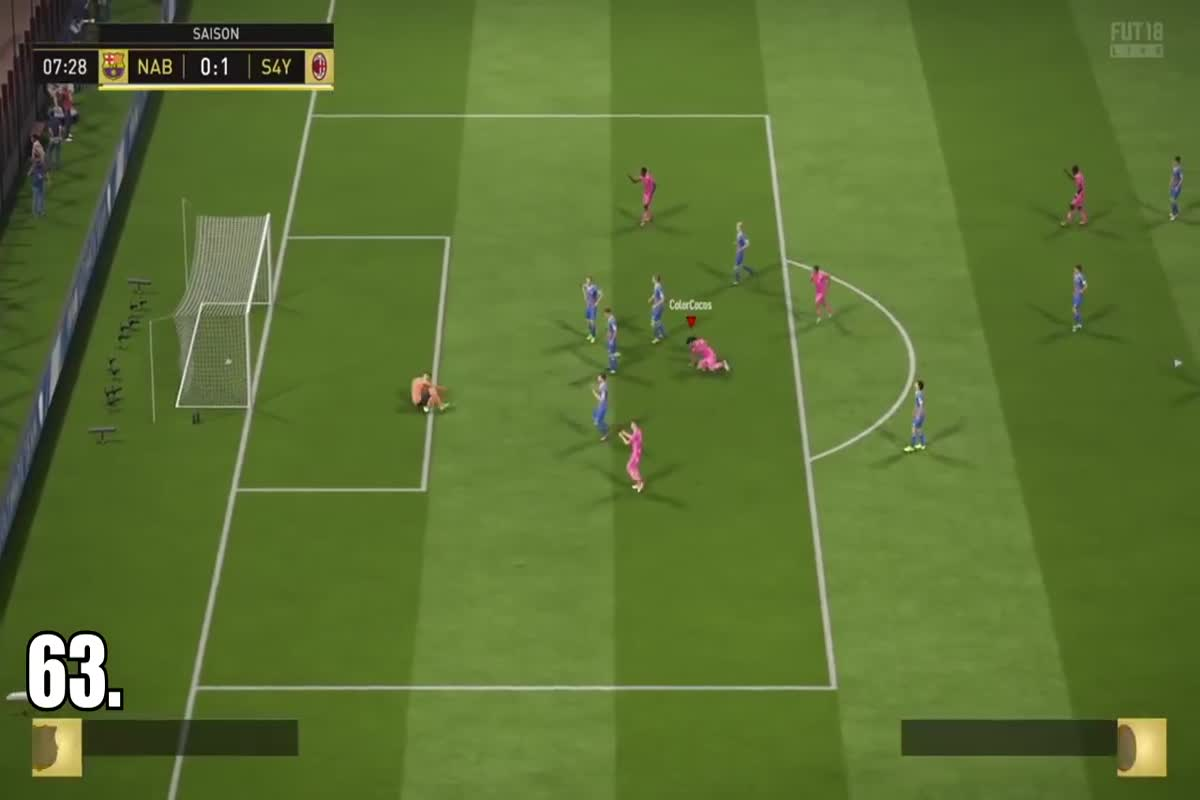ball: (218, 353, 240, 369)
